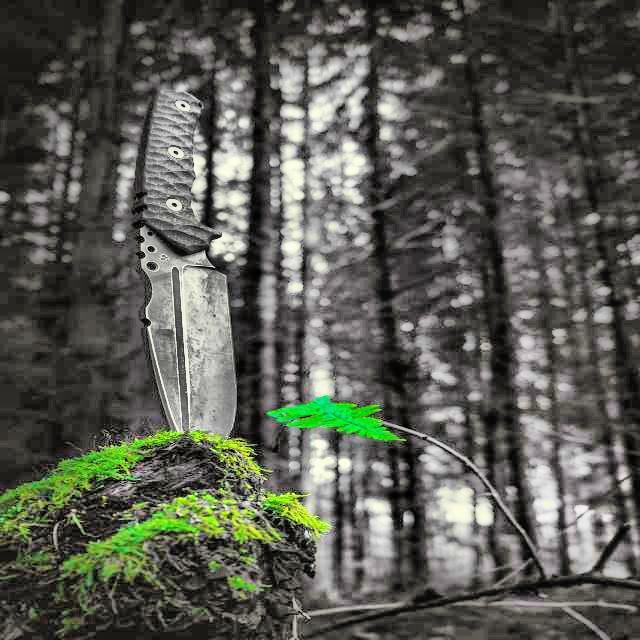knife: (137, 72, 273, 436)
